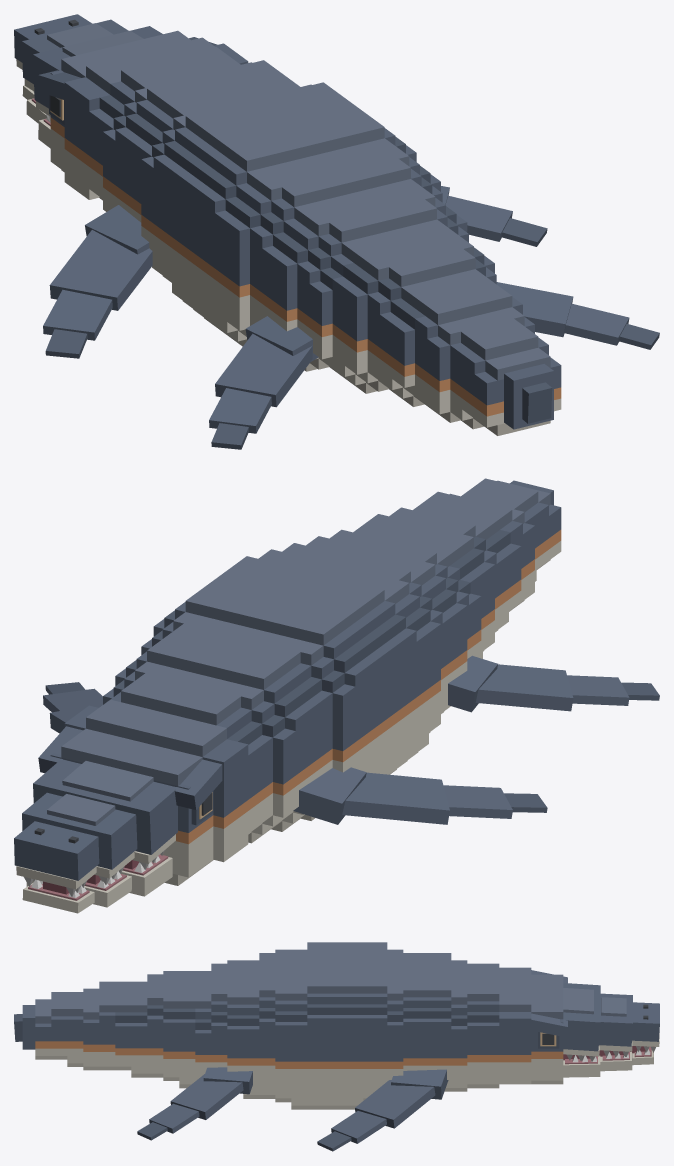
File: Liopleurodon.glb
3 views of the same model, one above another, from view 1: azimuth 30°, elevation 25°; view 2: azimuth 150°, elevation 25°; view 3: azimuth 270°, elevation 25° (orthographic). The views are drawn at different scales.
Parts seen in each view (by area): view 1: Body, Head, T3, Hip, T1, FlipperFL, T2, FlipperBL, Neck, FlipperBR, FlipperFR, Jaw; view 2: Body, Head, FlipperFL, FlipperBL, Neck, Hip, T1, T2, T3, Jaw, FlipperFR; view 3: Body, Head, T3, T1, Hip, T2, FlipperFR, Neck, FlipperBR, Jaw.
Part boxes in pixels (left/top/right/bottom): Body: left=103, top=60, right=442, bottom=371; Head: left=14, top=14, right=248, bottom=200; T3: left=427, top=307, right=561, bottom=435; Hip: left=274, top=188, right=468, bottom=384; T1: left=332, top=228, right=496, bottom=397; FlipperFL: left=43, top=205, right=152, bottom=358; T2: left=380, top=269, right=522, bottom=413; FlipperBL: left=209, top=316, right=318, bottom=449; Neck: left=89, top=47, right=240, bottom=199; FlipperBR: left=496, top=282, right=659, bottom=349; FlipperFR: left=441, top=186, right=547, bottom=246; Jaw: left=22, top=85, right=50, bottom=148; Body: left=103, top=543, right=454, bottom=843; Head: left=14, top=699, right=248, bottom=896; FlipperFL: left=293, top=767, right=547, bottom=824; FlipperBL: left=448, top=655, right=659, bottom=712; Neck: left=111, top=673, right=272, bottom=834; Hip: left=307, top=529, right=481, bottom=678; T1: left=354, top=507, right=496, bottom=658; T2: left=413, top=491, right=522, bottom=632; T3: left=449, top=478, right=561, bottom=609; Jaw: left=22, top=854, right=172, bottom=913; FlipperFR: left=43, top=682, right=102, bottom=733; Body: left=243, top=942, right=467, bottom=1109; Head: left=499, top=967, right=659, bottom=1084; T3: left=14, top=988, right=99, bottom=1070; T1: left=147, top=971, right=195, bottom=1088; Hip: left=195, top=960, right=243, bottom=1080; T2: left=99, top=981, right=147, bottom=1077; FlipperFR: left=317, top=1069, right=448, bottom=1151; Neck: left=467, top=963, right=499, bottom=1088; FlipperBR: left=137, top=1067, right=252, bottom=1140; Jaw: left=563, top=1046, right=653, bottom=1077.
Bounding box in the file's own units: 21.28 × 7.65 × 36.34.
